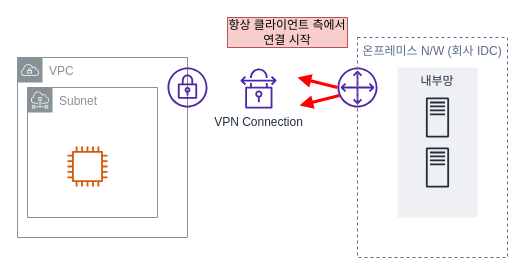
This 525x275 diagram has some shape labels left out. Here are the shapes that lost their labels. From the top down, the centre of each, then its label:
At point 187,87: "VGW (VPN GW)".
At point 357,87: "CGW".
At point 87,166: "Instance".
